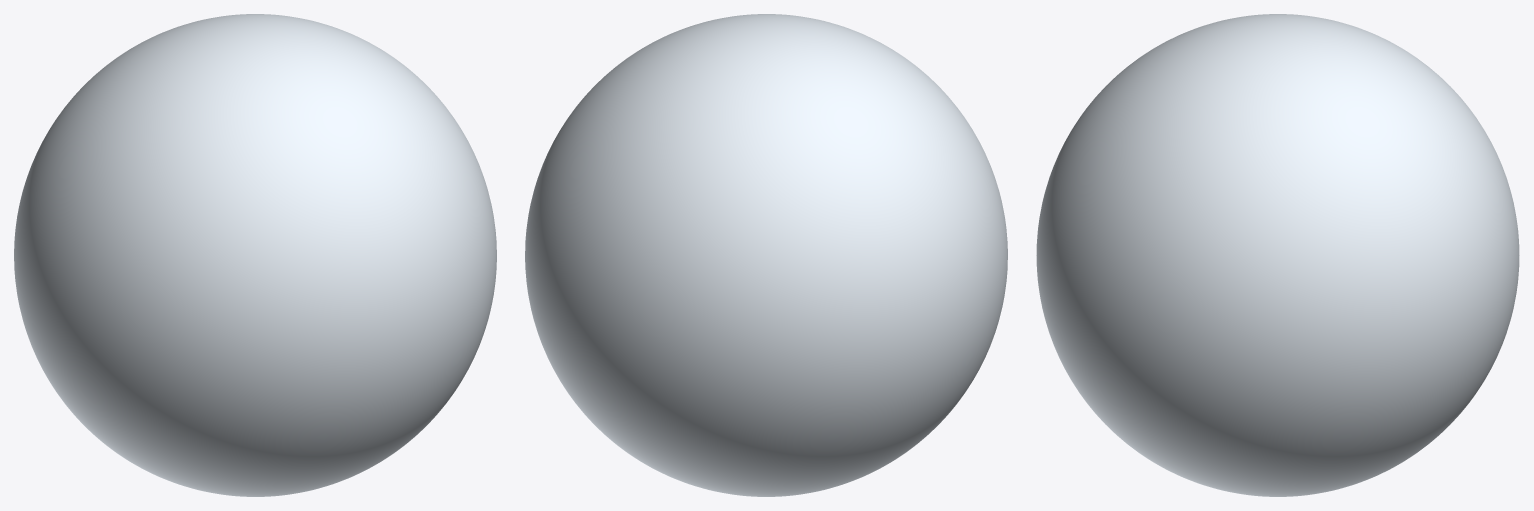
File: elaria.glb
3 renders of one model, left to right at view 1: azimuth 30°, elevation 25°; view 2: azimuth 150°, elevation 25°; view 3: azimuth 270°, elevation 25°, orthographic.
Parts seen in each view (by area): view 1: HighClouds; view 2: HighClouds; view 3: HighClouds.
Part boxes in pixels (bbox=[...]): HighClouds: bbox=[14, 14, 496, 496]; HighClouds: bbox=[525, 14, 1007, 496]; HighClouds: bbox=[1036, 14, 1519, 496].
Size of the model in its own units: 6.73 by 6.73 by 6.73.
Materials: 3 (3 with a texture image).
